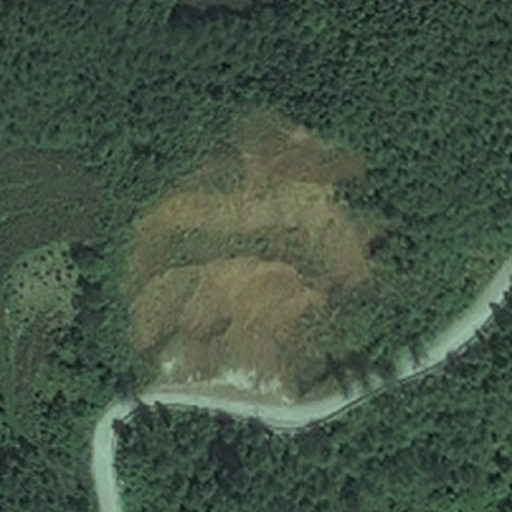landslide: (132, 110, 375, 380)
